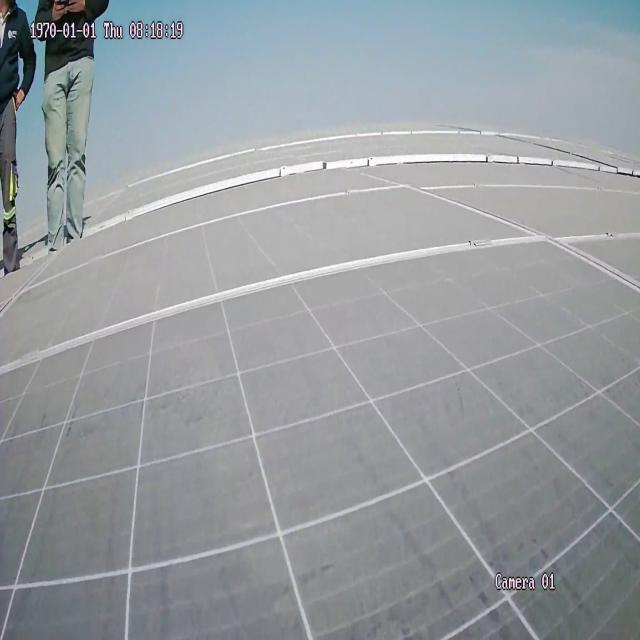interior panel: (0, 230, 636, 375)
